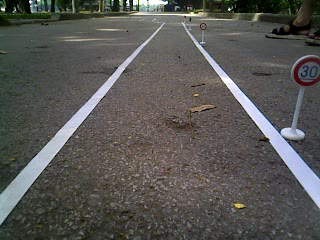limit 30: (292, 54, 320, 88)
